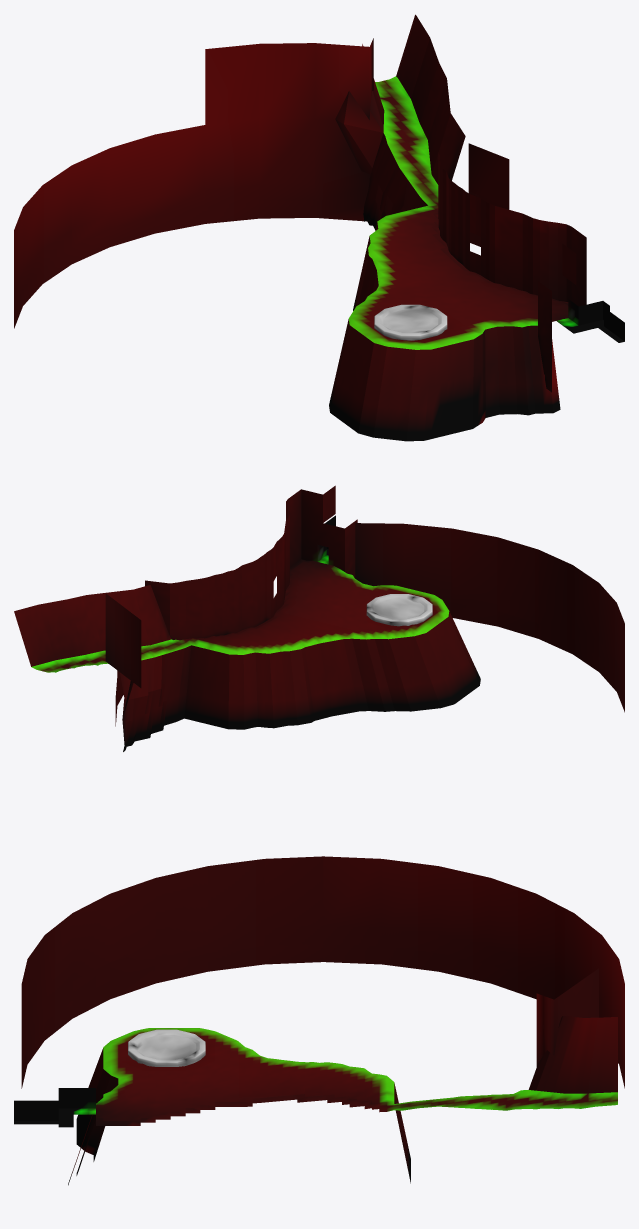
Rendered from castle_graveyard.glb.
The picture shows the model from 3 angles, top to bottom: view 1: azimuth 30°, elevation 25°; view 2: azimuth 150°, elevation 25°; view 3: azimuth 270°, elevation 25°; orthographic projection. The views are drawn at different scales.
Visible parts, largest first — view 1: OuterWall, SteepRock, DirtFloor, Bricks, LandingPad, GraveyardEntrance; view 2: SteepRock, OuterWall, Bricks, DirtFloor, LandingPad; view 3: OuterWall, DirtFloor, SteepRock, LandingPad, GraveyardEntrance.
Boxes of the visible parts, <box> form: OuterWall: <box>14,38,509,328</box>; SteepRock: <box>329,14,560,441</box>; DirtFloor: <box>348,76,568,349</box>; Bricks: <box>438,152,586,392</box>; LandingPad: <box>374,304,447,340</box>; GraveyardEntrance: <box>557,299,624,342</box>; SteepRock: <box>14,585,480,751</box>; OuterWall: <box>105,523,624,726</box>; Bricks: <box>145,485,357,640</box>; DirtFloor: <box>31,559,449,672</box>; LandingPad: <box>366,594,432,626</box>; OuterWall: <box>21,856,624,1088</box>; DirtFloor: <box>96,1028,617,1125</box>; SteepRock: <box>68,1016,617,1185</box>; LandingPad: <box>128,1029,205,1066</box>; GraveyardEntrance: <box>14,1088,95,1127</box>.
Bounding box in the file's own units: 82.87 × 31.01 × 81.93.
